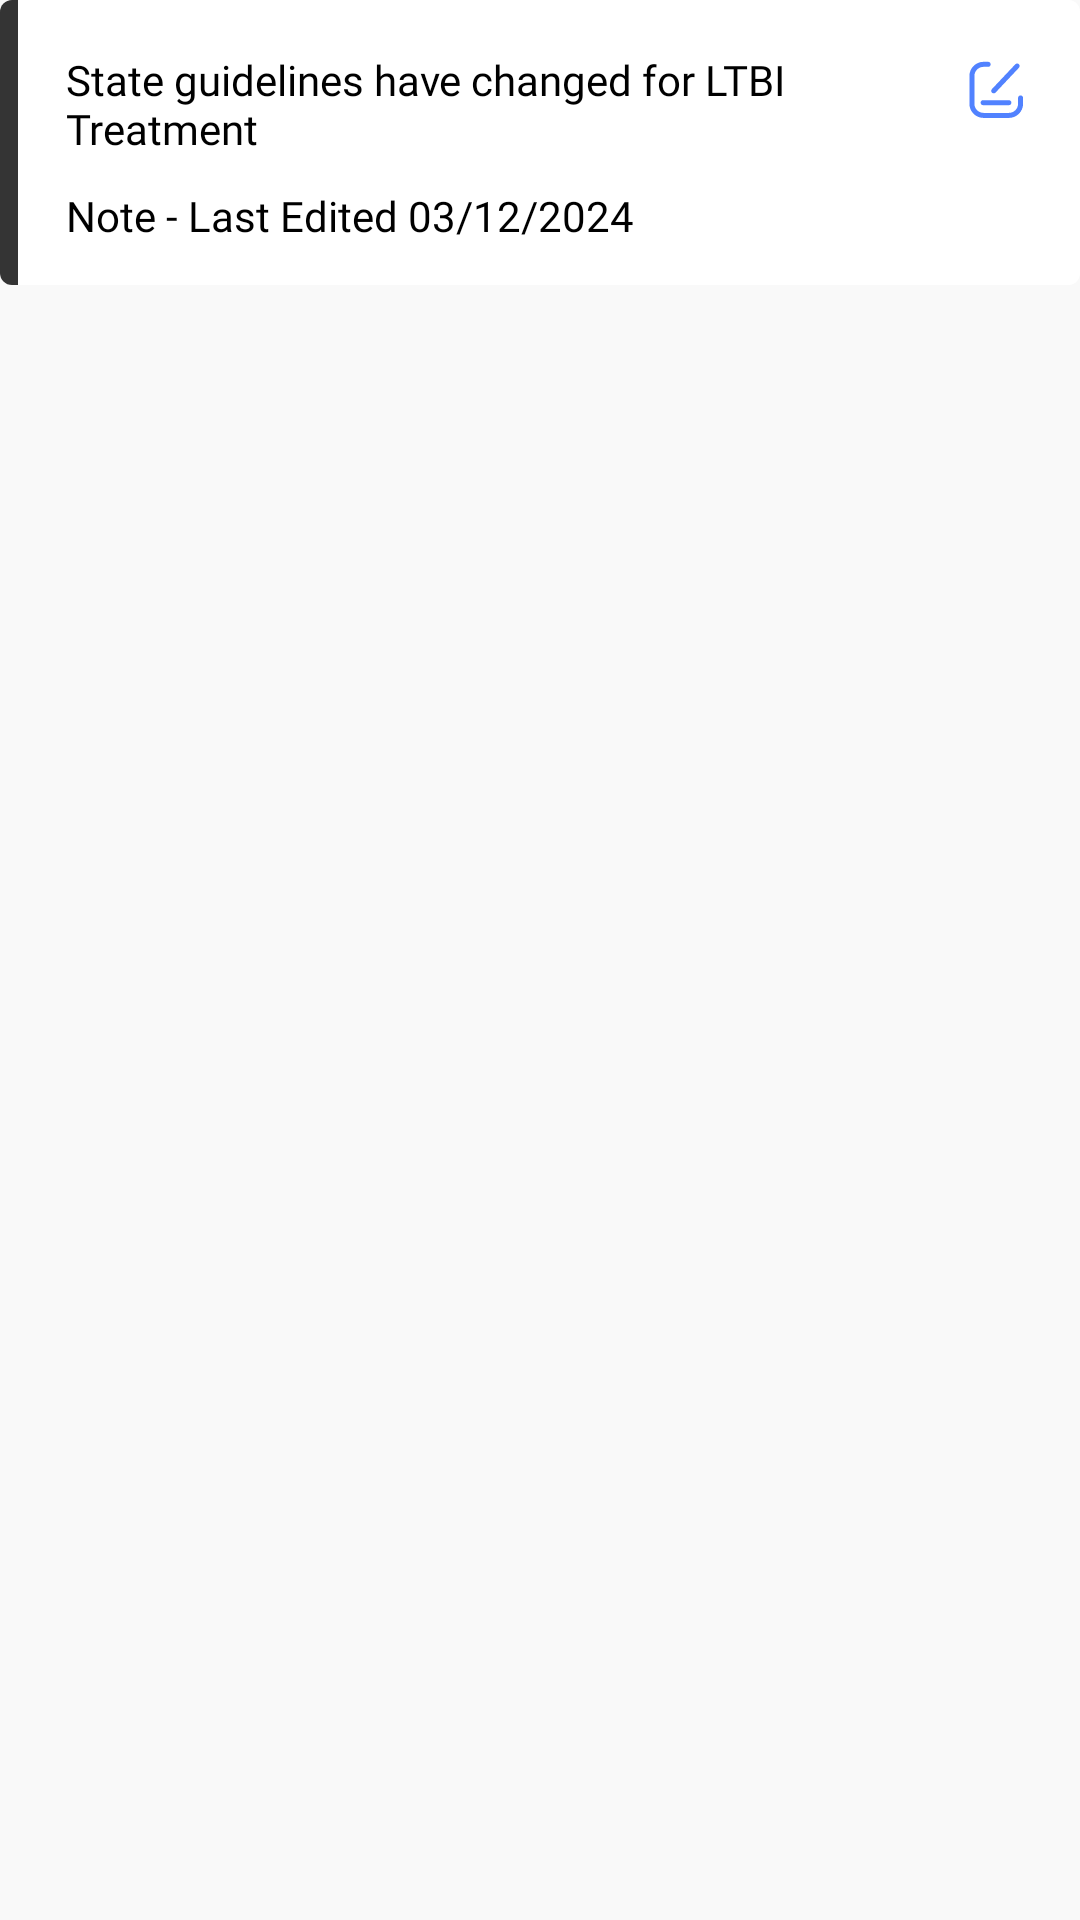

Icon click points for this 1080px x 1920px phone screenshot, format (x=x, y=y):
Edit note: (x=996, y=89)
